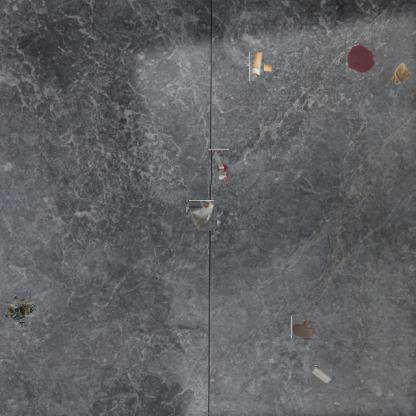dirty: (5, 296, 35, 326), (187, 202, 216, 230), (207, 149, 229, 184), (391, 61, 415, 85), (246, 55, 268, 78), (310, 365, 332, 383)
liquid: (345, 43, 375, 73), (293, 315, 317, 340)
